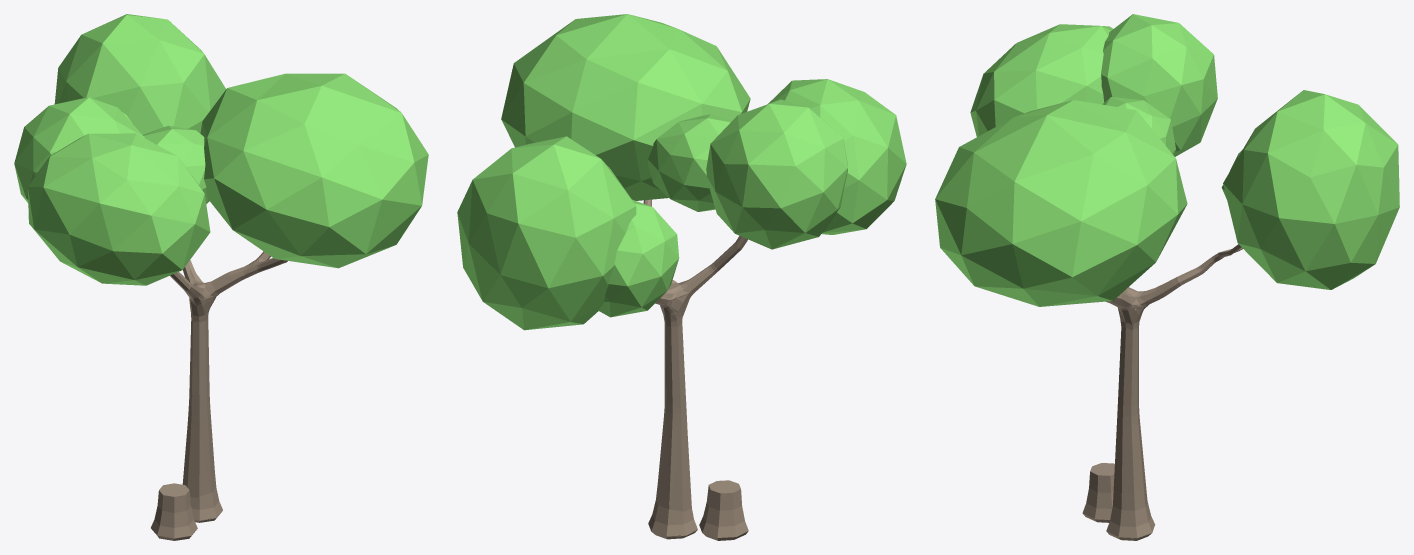
File: amazing tree stump.fbx
3 renders of one model, left to right at view 1: azimuth 30°, elevation 25°; view 2: azimuth 150°, elevation 25°; view 3: azimuth 270°, elevation 25°, orthographic. The views are drawn at different scales.
Parts seen in each view (by area): view 1: Icosphere.001, Icosphere.003, Icosphere.005, Plane.001, Icosphere.007, Plane, Plane.002, Icosphere.006; view 2: Icosphere.001, Icosphere.005, Icosphere.007, Icosphere.003, Icosphere.004, Plane.001, Icosphere.006, Plane, Plane.002; view 3: Icosphere.001, Icosphere.005, Icosphere.007, Icosphere.003, Plane, Plane.001, Plane.002, Icosphere.006.
Part boxes in pixels (x1=…): Icosphere.001: x1=200, y1=73, x2=428, y2=268; Icosphere.003: x1=28, y1=133, x2=210, y2=285; Icosphere.005: x1=54, y1=14, x2=225, y2=134; Plane.001: x1=174, y1=251, x2=287, y2=522; Icosphere.007: x1=14, y1=97, x2=144, y2=203; Plane: x1=170, y1=257, x2=281, y2=520; Plane.002: x1=151, y1=483, x2=197, y2=540; Icosphere.006: x1=143, y1=125, x2=209, y2=203; Icosphere.001: x1=501, y1=14, x2=750, y2=200; Icosphere.005: x1=457, y1=136, x2=636, y2=330; Icosphere.007: x1=706, y1=99, x2=847, y2=249; Icosphere.003: x1=768, y1=79, x2=906, y2=234; Icosphere.004: x1=598, y1=199, x2=679, y2=317; Plane.001: x1=644, y1=199, x2=747, y2=539; Icosphere.006: x1=647, y1=114, x2=731, y2=211; Plane: x1=643, y1=199, x2=746, y2=537; Plane.002: x1=699, y1=480, x2=748, y2=540; Icosphere.001: x1=935, y1=100, x2=1187, y2=306; Icosphere.005: x1=1223, y1=90, x2=1399, y2=289; Icosphere.007: x1=1101, y1=14, x2=1217, y2=156; Icosphere.003: x1=970, y1=24, x2=1112, y2=136; Plane: x1=1106, y1=244, x2=1242, y2=540; Plane.001: x1=1107, y1=244, x2=1240, y2=540; Plane.002: x1=1082, y1=463, x2=1114, y2=522; Icosphere.006: x1=1102, y1=97, x2=1175, y2=155.
Size of the model in its own units: 1911 by 2172 by 1980.
